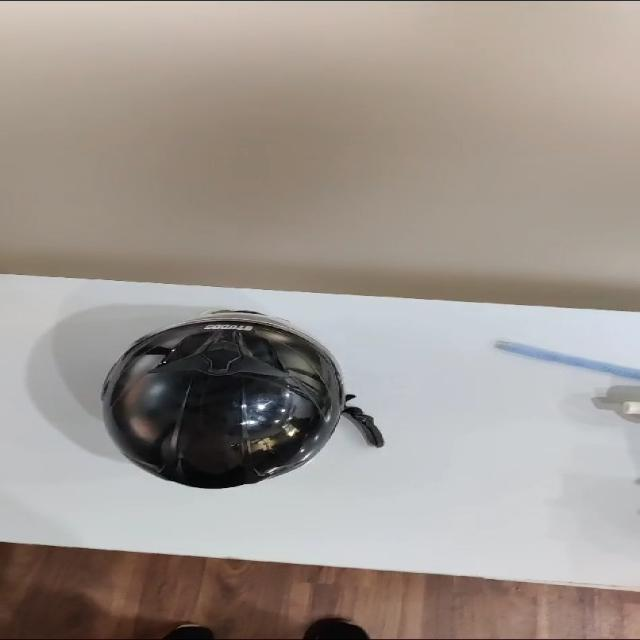helmet: (92, 304, 358, 514)
